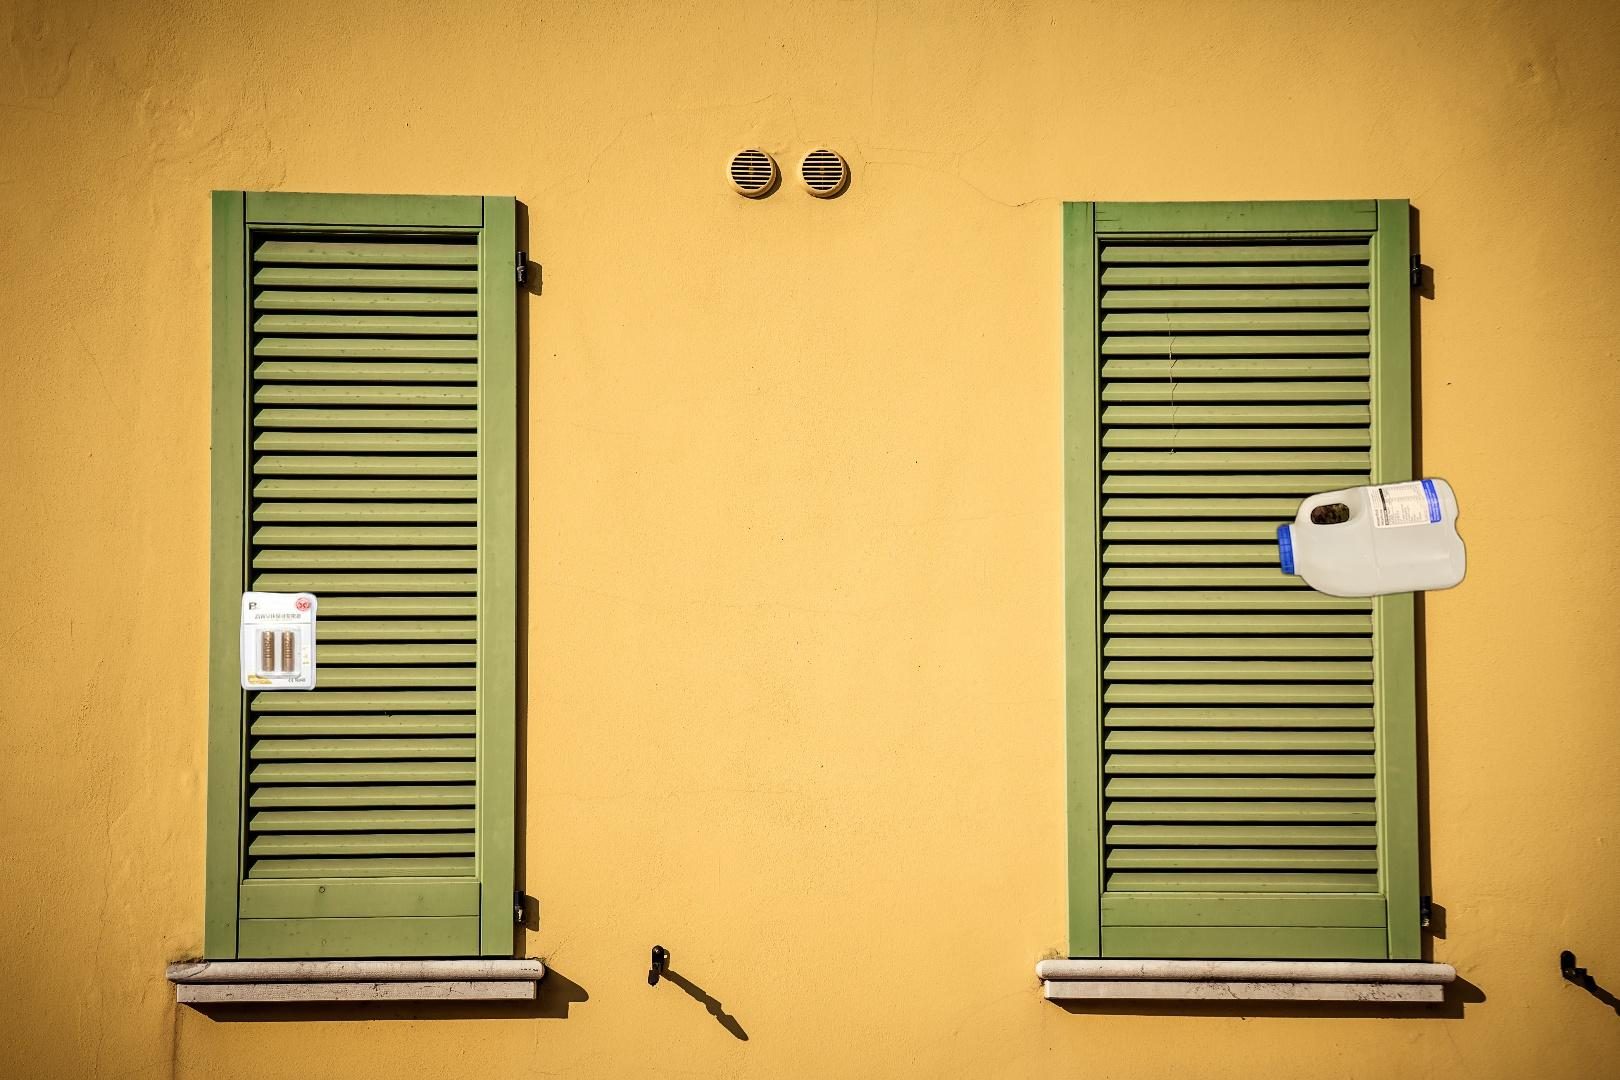battery: (237, 588, 321, 694)
plastic-bottles: (1273, 471, 1471, 604)
